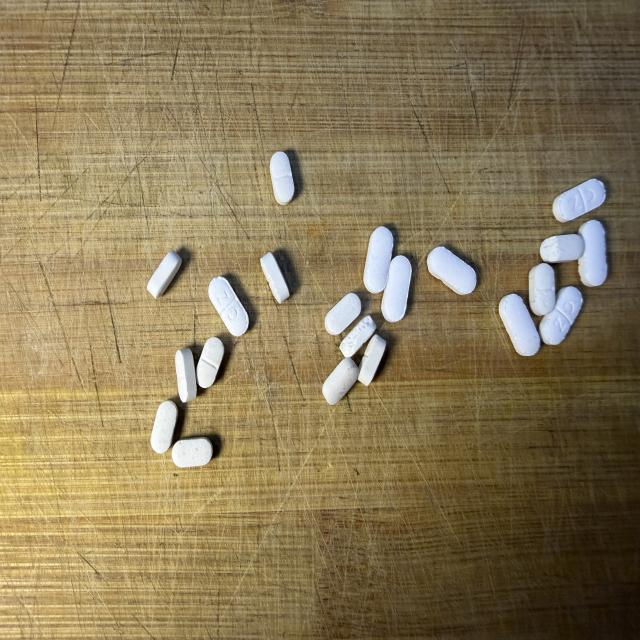pill: (499, 294, 540, 356), (540, 287, 582, 344), (427, 247, 476, 294), (209, 277, 248, 336), (553, 179, 605, 222), (382, 256, 411, 322), (364, 227, 393, 293), (579, 220, 607, 286), (323, 358, 358, 405), (147, 251, 181, 298), (325, 293, 361, 335), (340, 316, 376, 357), (260, 253, 289, 303), (196, 337, 224, 388), (358, 335, 386, 385), (529, 263, 555, 315), (151, 401, 177, 453), (270, 152, 294, 205), (172, 437, 213, 468), (540, 235, 584, 263), (176, 348, 196, 402)
